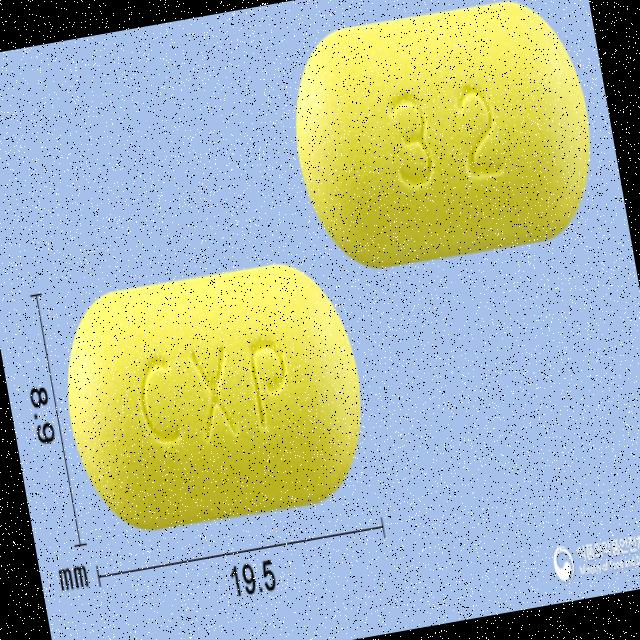Clatwo: (44, 240, 387, 554), (277, 0, 611, 280)
